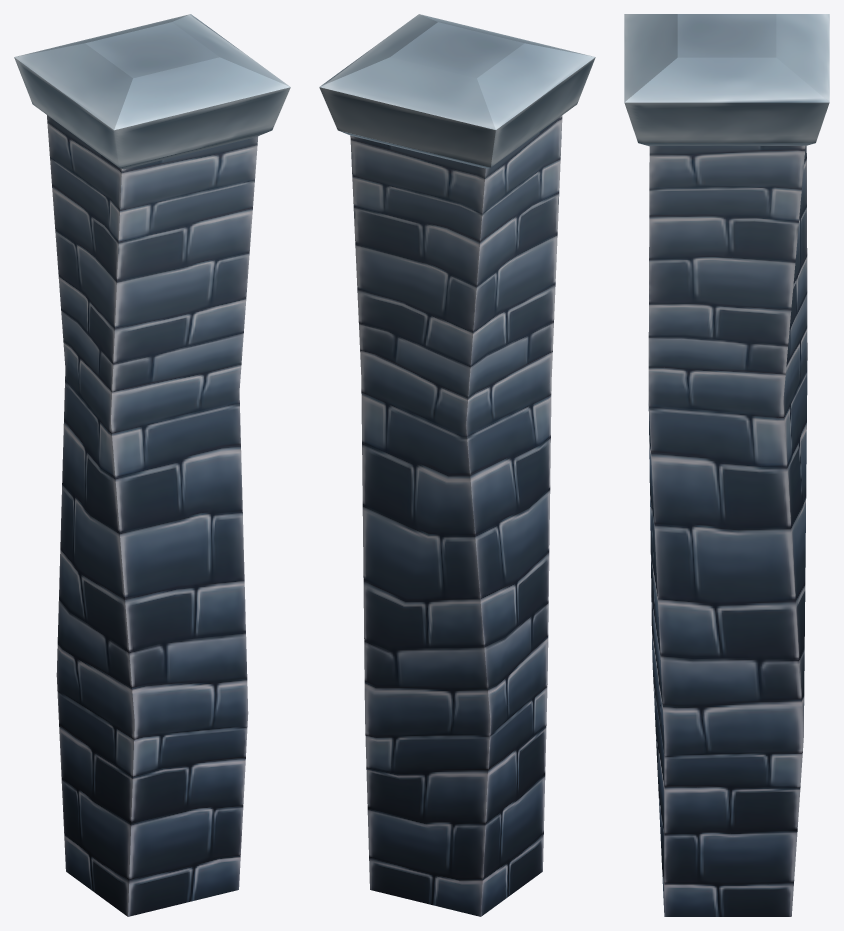
The model's file is Vampire_Village_Props_23.FBX.
3 renders of one model, left to right at view 1: azimuth 30°, elevation 25°; view 2: azimuth 150°, elevation 25°; view 3: azimuth 270°, elevation 25°, orthographic. The views are drawn at different scales.
Parts seen in each view (by area): view 1: Vampire_Village_Props_23; view 2: Vampire_Village_Props_23; view 3: Vampire_Village_Props_23.
Boxes of the visible parts, x1,y1,x2,y2 form: Vampire_Village_Props_23: (14,14,290,916); Vampire_Village_Props_23: (319,14,595,916); Vampire_Village_Props_23: (624,14,829,916).
Bounding box in the file's own units: 90 × 404 × 88.12.
